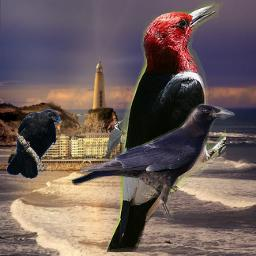Crow: (69, 103, 235, 222), (6, 109, 63, 179)
Woodpecker: (102, 1, 226, 252), (103, 119, 126, 159)
